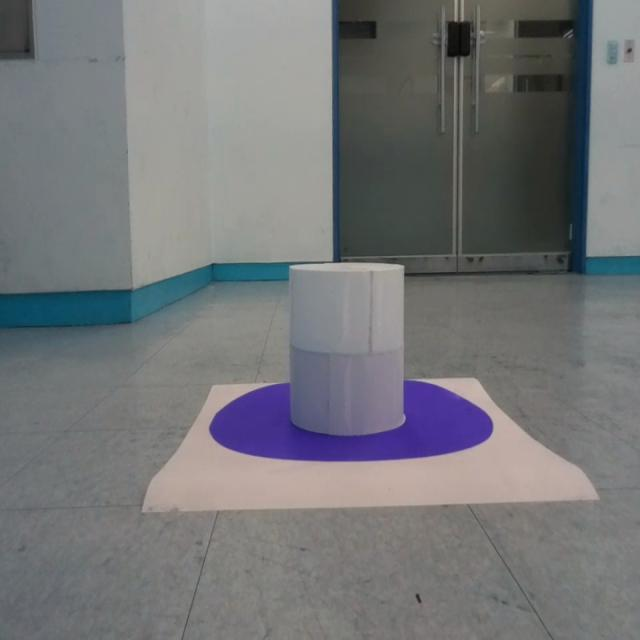cylinder: (288, 262, 406, 437)
